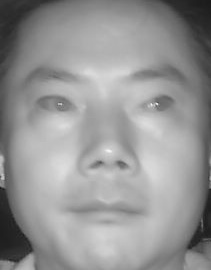eye: (34, 90, 80, 117), (138, 90, 179, 118)
mouth: (67, 186, 148, 232)
